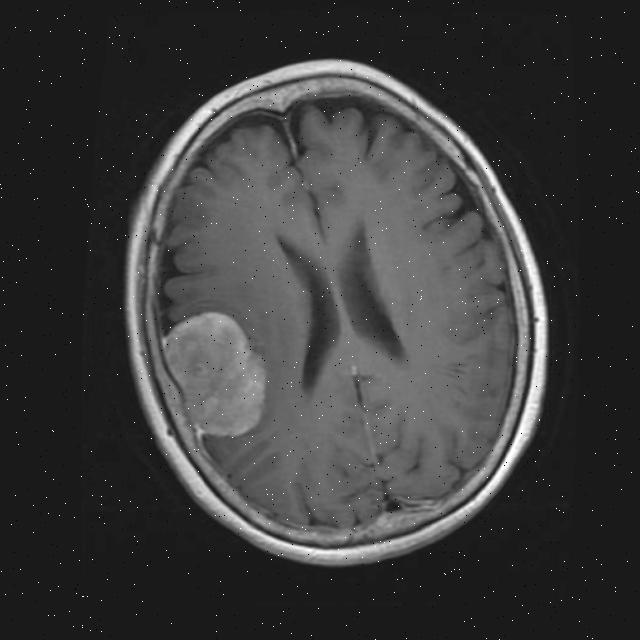Meningioma: (151, 300, 276, 446)
